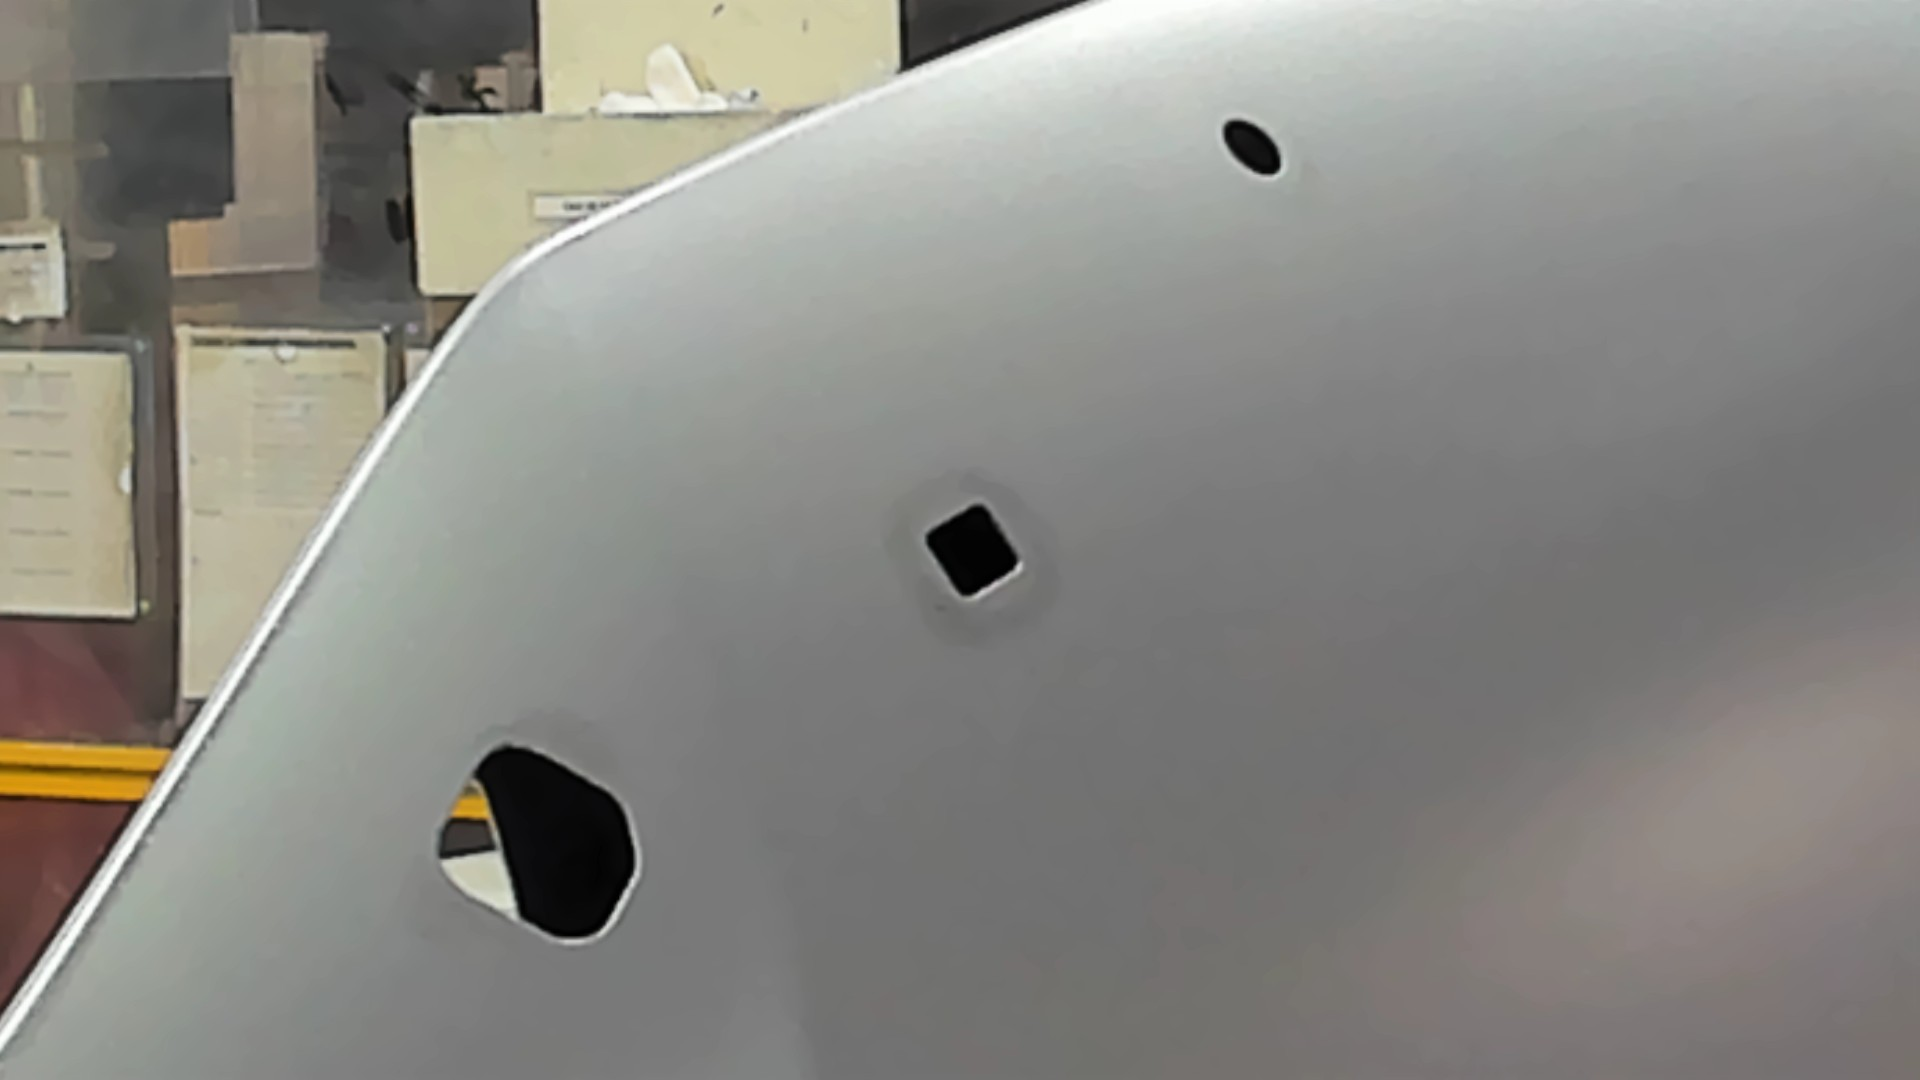chico: (1220, 113, 1283, 182)
grande: (433, 737, 642, 956)
mediano: (919, 500, 1027, 609)
